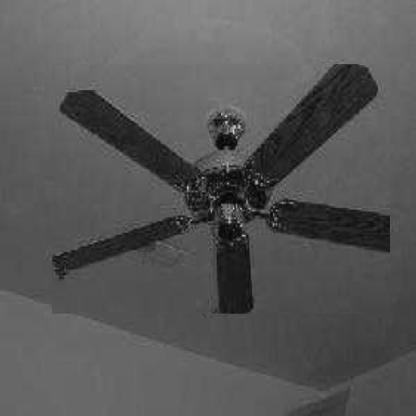ceiling-fan: (52, 64, 391, 314)
